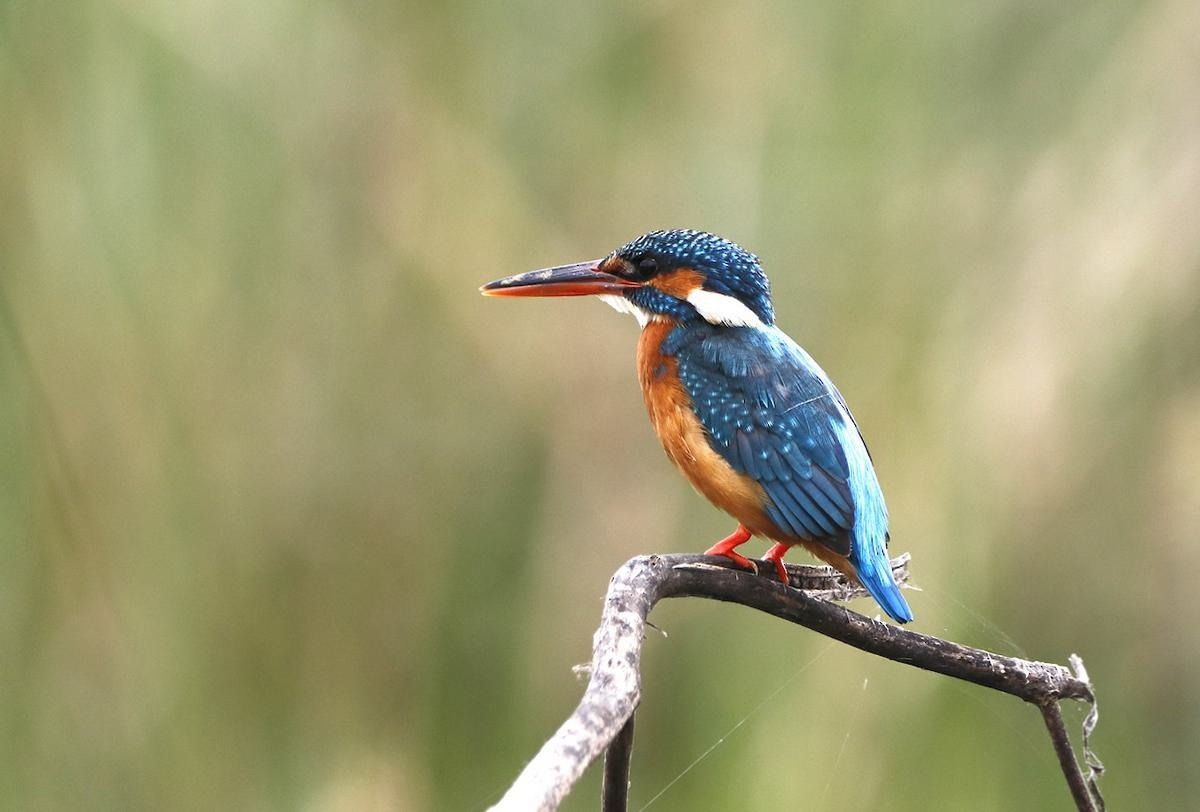kingfisher: (483, 218, 969, 627)
